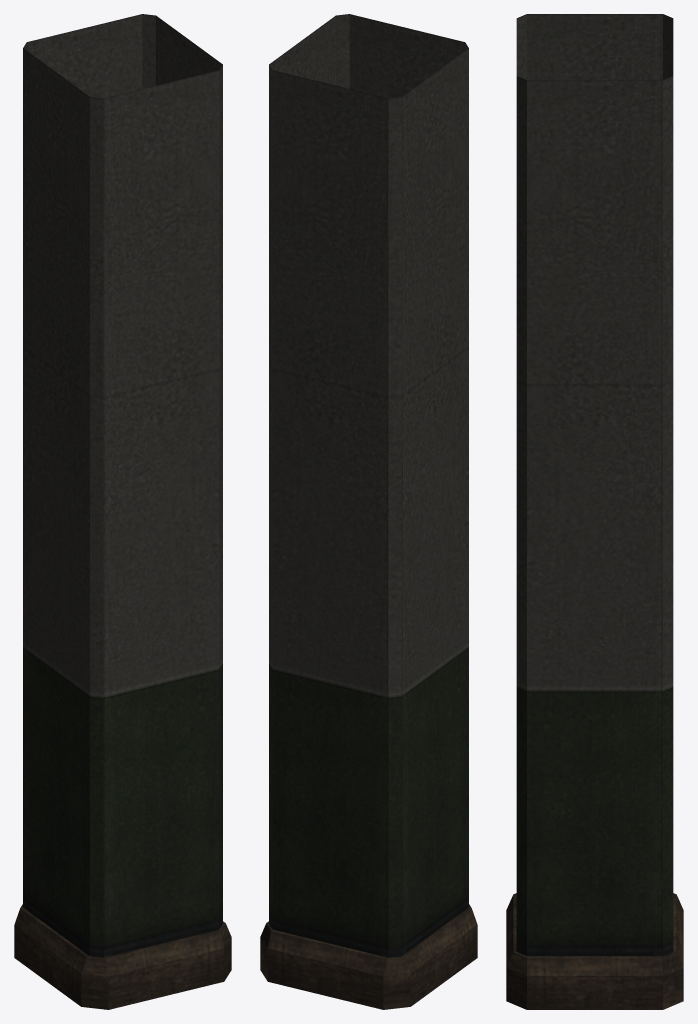
Rendered from pillar_2.obj.
The picture shows the model from 3 angles, left to right: view 1: azimuth 30°, elevation 25°; view 2: azimuth 150°, elevation 25°; view 3: azimuth 270°, elevation 25°; orthographic projection.
Parts seen in each view (by area): view 1: pillar_2; view 2: pillar_2; view 3: pillar_2.
Boxes of the visible parts, x1=… form: pillar_2: x1=14, y1=14, x2=231, y2=1009; pillar_2: x1=260, y1=14, x2=477, y2=1009; pillar_2: x1=506, y1=14, x2=683, y2=1009.
Size of the model in its own units: 0.52 by 3 by 0.52.
